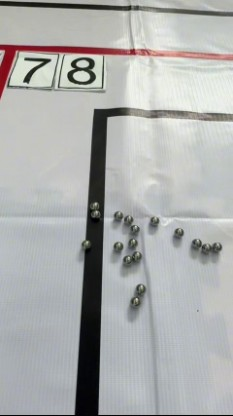ironball: (188, 235, 202, 253), (170, 223, 184, 240), (145, 213, 160, 228), (110, 238, 125, 253), (127, 293, 141, 309), (133, 279, 147, 294), (125, 234, 139, 248), (110, 207, 122, 223), (123, 211, 135, 227), (197, 240, 210, 254), (210, 240, 224, 253), (130, 250, 144, 263), (86, 198, 100, 210), (86, 208, 100, 220), (120, 253, 132, 267), (79, 237, 91, 250), (130, 222, 140, 235)
